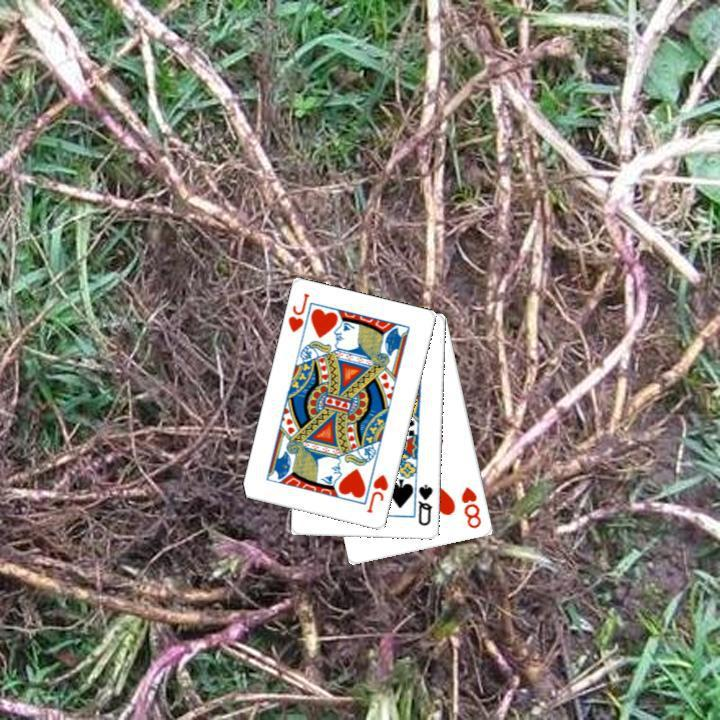8: (457, 482, 484, 531)
J: (363, 470, 391, 515), (284, 289, 311, 334)
Q: (414, 480, 435, 528)
